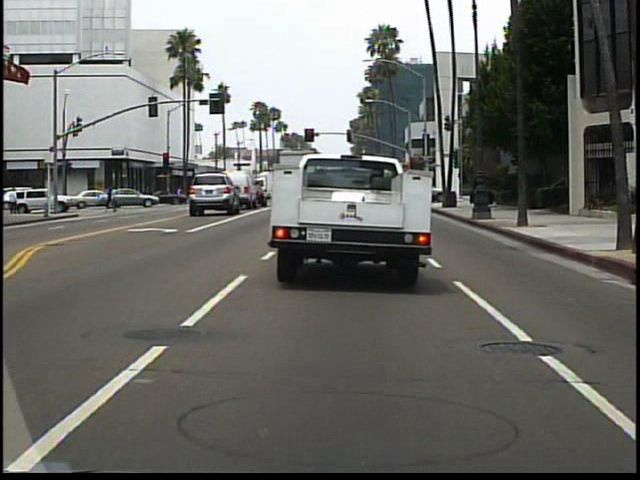person: (8, 182, 23, 216)
